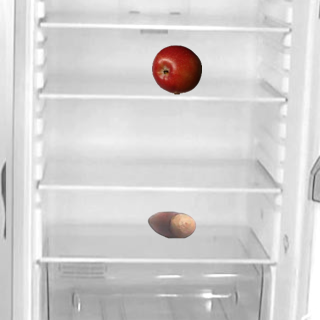Apple Braeburn: (151, 44, 201, 94)
Hazelnut: (146, 199, 196, 249)
